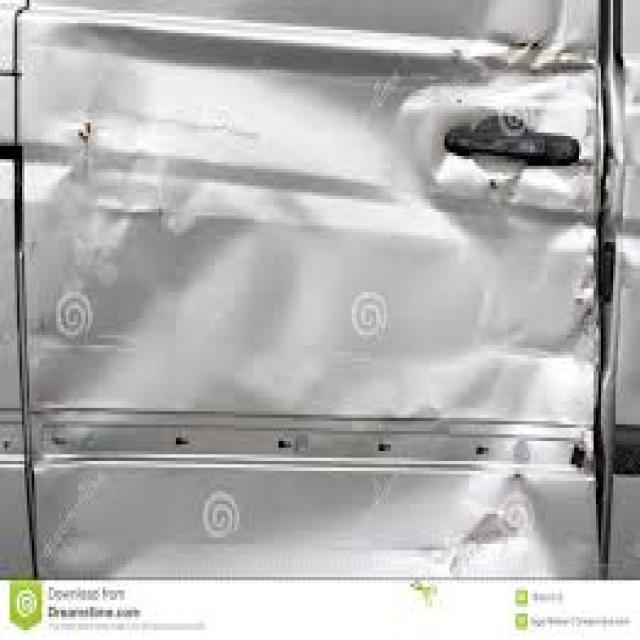damaged-door: (15, 0, 612, 576)
